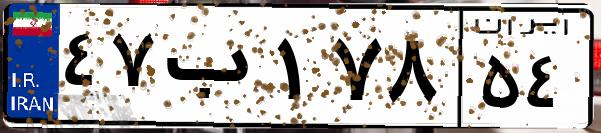1: (270, 28, 330, 110)
4: (57, 26, 110, 100), (525, 38, 570, 115)
5: (475, 38, 525, 113)
7: (330, 28, 385, 110), (110, 28, 158, 98)
8: (385, 28, 445, 110)
ب: (158, 20, 270, 120)
